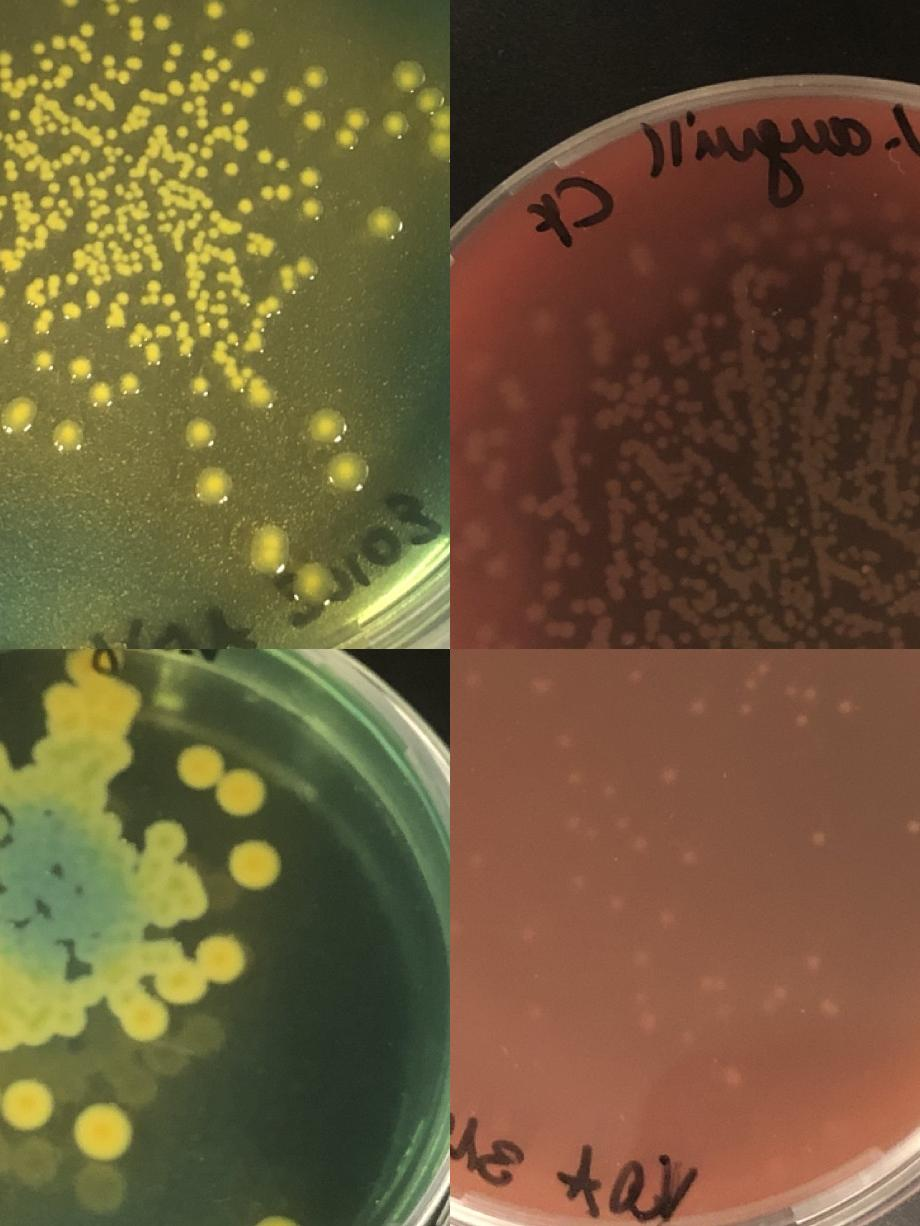pdpiscicida: (738, 656, 776, 694), (759, 984, 792, 1020), (781, 682, 824, 705), (805, 952, 827, 975), (582, 820, 604, 843), (732, 701, 754, 724), (722, 1065, 744, 1087), (678, 1030, 700, 1052), (639, 1012, 661, 1034), (712, 1001, 734, 1023), (818, 998, 840, 1020), (693, 969, 715, 991), (632, 945, 654, 967), (520, 923, 542, 945), (658, 906, 680, 928), (570, 870, 592, 892), (680, 850, 702, 872), (628, 832, 650, 854), (807, 827, 829, 849), (560, 812, 582, 834), (610, 808, 632, 830), (598, 781, 620, 803), (566, 772, 588, 794), (660, 764, 682, 786), (551, 730, 573, 752), (788, 710, 810, 732), (834, 698, 856, 720), (687, 696, 709, 718), (528, 674, 550, 696), (626, 662, 648, 684), (466, 668, 487, 691), (468, 849, 489, 871), (608, 892, 628, 914), (903, 815, 920, 837), (450, 915, 459, 938), (710, 649, 732, 654)
sinniae: (391, 59, 450, 163), (212, 331, 276, 412), (184, 267, 251, 330), (0, 52, 73, 94), (120, 222, 156, 274), (96, 144, 136, 182), (296, 563, 334, 601), (328, 454, 366, 492), (197, 467, 234, 505), (309, 410, 346, 448), (187, 124, 226, 160), (251, 530, 289, 566), (52, 417, 88, 455), (113, 178, 151, 210), (377, 108, 412, 142), (51, 143, 92, 172), (184, 416, 218, 448), (3, 398, 37, 430), (369, 206, 403, 238), (180, 96, 210, 132), (251, 296, 280, 329), (102, 54, 131, 84), (40, 196, 76, 218), (66, 36, 94, 64), (32, 121, 72, 139), (1, 128, 28, 154), (88, 381, 112, 407), (32, 311, 54, 338), (302, 108, 326, 132), (345, 106, 369, 130), (304, 65, 328, 89), (231, 26, 255, 50), (207, 219, 231, 242), (283, 84, 306, 108), (105, 121, 133, 140), (203, 0, 227, 22), (227, 78, 255, 96), (66, 174, 85, 200), (32, 273, 61, 290), (74, 93, 98, 112), (154, 206, 179, 223), (190, 376, 210, 396), (35, 350, 55, 370), (295, 257, 315, 277), (300, 168, 320, 188), (186, 210, 204, 232), (2, 158, 18, 182), (120, 374, 140, 393), (337, 130, 356, 150), (133, 324, 154, 342), (130, 15, 144, 42), (88, 123, 104, 146), (72, 358, 90, 378), (62, 302, 82, 320), (152, 14, 172, 32), (178, 337, 196, 356), (100, 0, 120, 17), (14, 236, 28, 260), (188, 70, 202, 94), (72, 248, 86, 271), (146, 343, 161, 364), (0, 319, 10, 343), (176, 123, 190, 138), (87, 81, 101, 96), (127, 56, 142, 70), (248, 336, 262, 350), (163, 292, 177, 306), (116, 292, 130, 306), (283, 278, 297, 292), (65, 272, 79, 286), (214, 270, 228, 284), (98, 262, 112, 276), (105, 238, 119, 252), (85, 220, 99, 234), (85, 196, 99, 210), (200, 196, 214, 210), (10, 189, 24, 203), (260, 186, 274, 200), (48, 182, 62, 196), (176, 167, 190, 181), (225, 162, 239, 176), (276, 158, 290, 172), (258, 150, 272, 164), (234, 138, 248, 152), (234, 118, 248, 132), (8, 110, 22, 124), (220, 102, 234, 116), (33, 92, 47, 106), (155, 92, 169, 106), (139, 88, 153, 102), (206, 70, 220, 84), (251, 68, 265, 82), (202, 48, 216, 62), (32, 42, 46, 56), (80, 22, 94, 36), (158, 325, 172, 338), (150, 258, 163, 272), (154, 123, 168, 136), (40, 59, 54, 72), (51, 36, 64, 50), (170, 309, 182, 324), (240, 200, 252, 215), (24, 159, 36, 174), (168, 81, 180, 96), (219, 59, 232, 72), (148, 278, 160, 292), (104, 221, 116, 235), (28, 210, 40, 224), (196, 164, 208, 178), (163, 60, 177, 72), (170, 43, 182, 57), (123, 0, 143, 4)
valgino: (0, 973, 102, 1047), (178, 742, 268, 820), (152, 935, 245, 1005), (68, 649, 138, 726), (0, 1068, 56, 1133), (110, 984, 170, 1042), (77, 1102, 133, 1160), (226, 838, 280, 892), (151, 882, 210, 928), (43, 681, 88, 728), (146, 822, 187, 864), (96, 738, 132, 774), (90, 810, 121, 842), (0, 890, 32, 920), (34, 738, 64, 769), (0, 775, 22, 804), (0, 812, 8, 841)
vangil: (688, 330, 711, 370), (885, 624, 906, 649), (621, 630, 635, 644), (572, 598, 586, 612), (676, 544, 690, 558), (693, 477, 707, 491), (716, 470, 730, 484), (642, 420, 656, 434), (712, 419, 726, 433), (666, 334, 680, 348), (658, 434, 671, 448), (676, 378, 689, 392), (644, 586, 658, 598), (567, 554, 581, 566), (628, 372, 640, 386), (658, 394, 671, 406), (638, 646, 652, 649)
